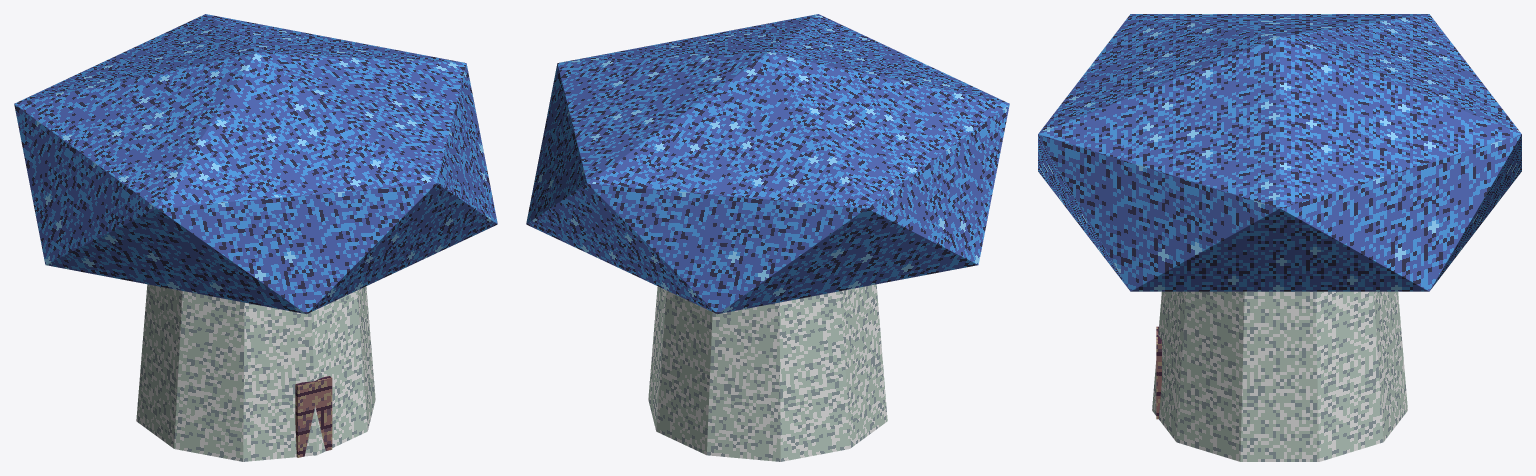
Rendered from mycelia_estalagem_cogumelo.glb.
3 views of the same model, side by side, from view 1: azimuth 30°, elevation 25°; view 2: azimuth 150°, elevation 25°; view 3: azimuth 270°, elevation 25° (orthographic). The views are drawn at different scales.
Visible parts, largest first — view 1: mycelia_estalagem_cogumelo; view 2: mycelia_estalagem_cogumelo; view 3: mycelia_estalagem_cogumelo.
Part boxes in pixels (x1,y1,x2,y2): mycelia_estalagem_cogumelo: (14, 14, 497, 461); mycelia_estalagem_cogumelo: (526, 14, 1009, 461); mycelia_estalagem_cogumelo: (1038, 14, 1521, 461).
Bounding box in the file's own units: 8.59 × 6.96 × 8.17.
4 materials, 3 textured.
